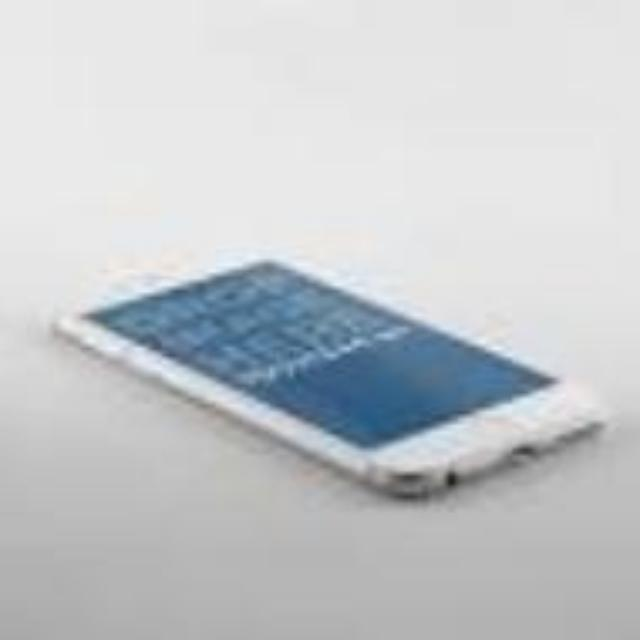phone: (28, 216, 615, 510)
